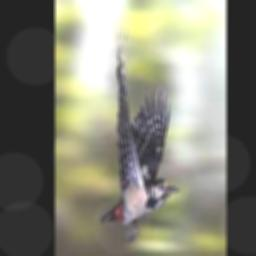Woodpecker: (100, 23, 180, 242)
